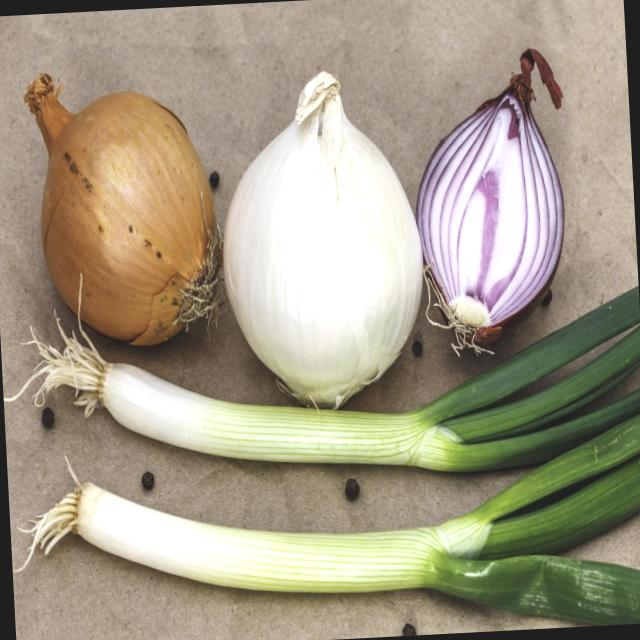onion: (204, 59, 438, 421), (8, 54, 226, 348), (410, 44, 584, 368)
